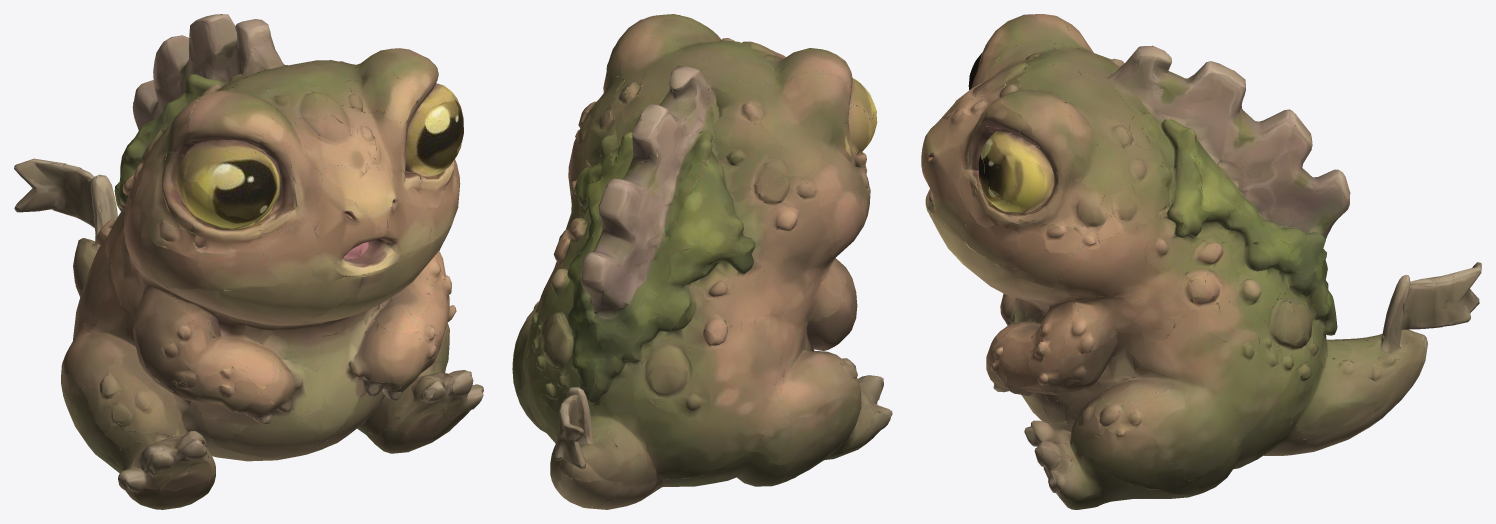
The picture shows the model from 3 angles, left to right: view 1: azimuth 30°, elevation 25°; view 2: azimuth 150°, elevation 25°; view 3: azimuth 270°, elevation 25°; orthographic projection. The views are drawn at different scales.
Visible parts, largest first — view 1: Mesh_0; view 2: Mesh_0; view 3: Mesh_0.
Boxes of the visible parts, x1,y1,x2,y2 form: Mesh_0: [14, 14, 483, 509]; Mesh_0: [512, 14, 892, 509]; Mesh_0: [921, 14, 1481, 509].
Size of the model in its own units: 1.34 by 1.5 by 1.9.
1 material, 1 textured.
